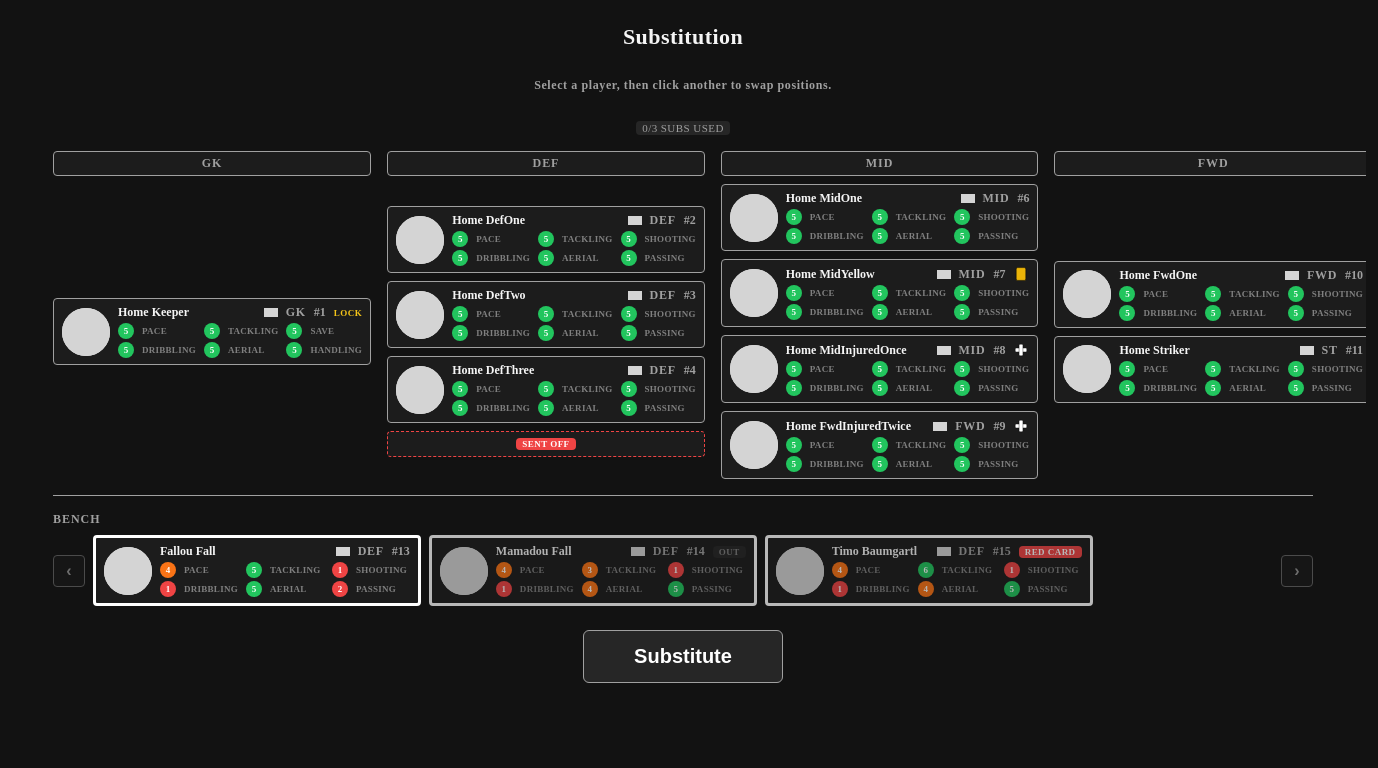
Phase 42 — midmatch positioning mode › 8. clicking Substitute switches the helper copy and relabels the button to Cancel
This screenshot has width=1378, height=768.
Click the button with aria-label "Enter substitution mode" at (683, 657), box [583,630,783,683]
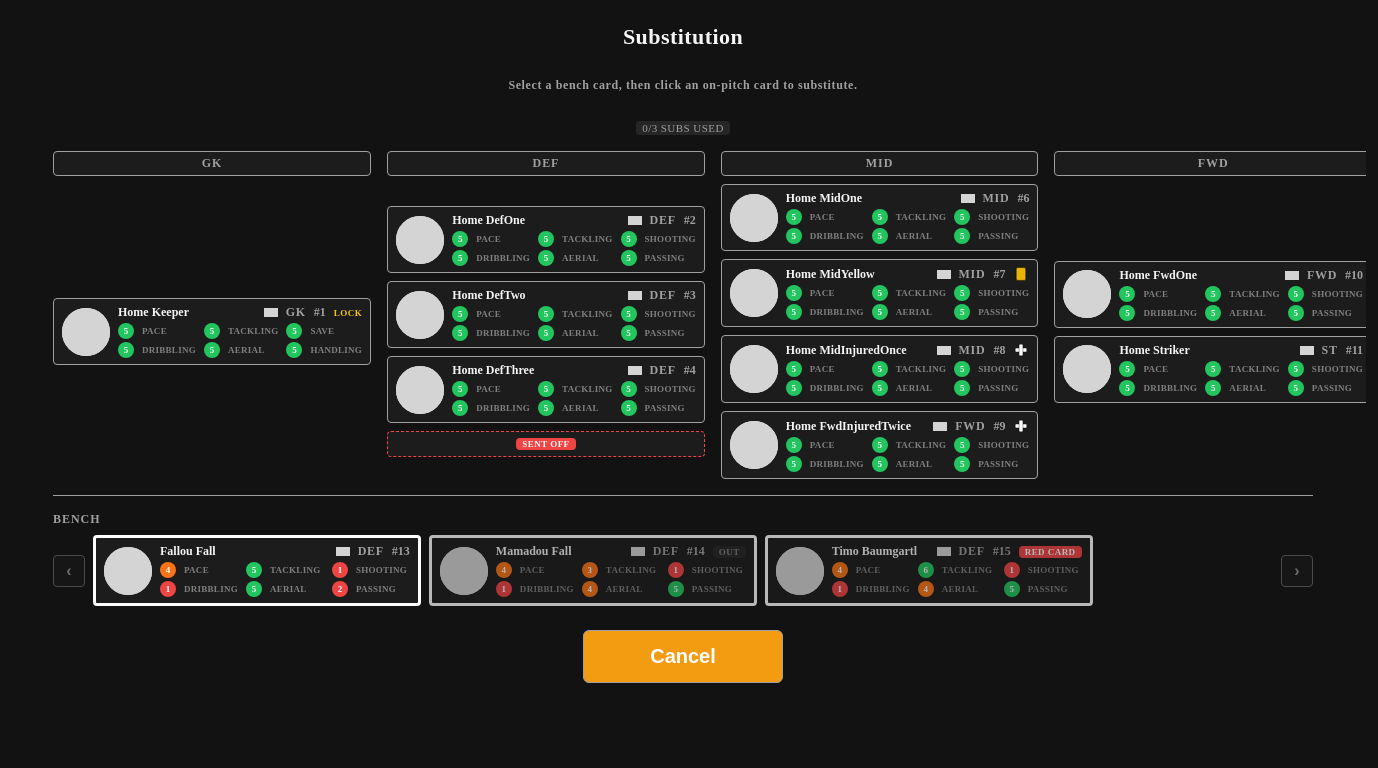
Result: the text "Select a bench card, then click an on-pitch card to substitute." is shown at [508,78,858,93]
Result: the button with aria-label "Cancel substitution" is shown at [583,630,783,683]
